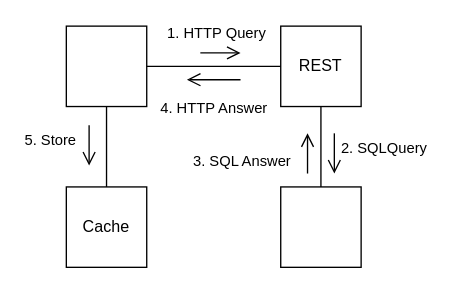
Image size: 449x291. Some labels were removed from this diagram. Each missing label, with the centre of its shape:
"DB" goes at point (320, 226).
"GUI" goes at point (106, 66).
